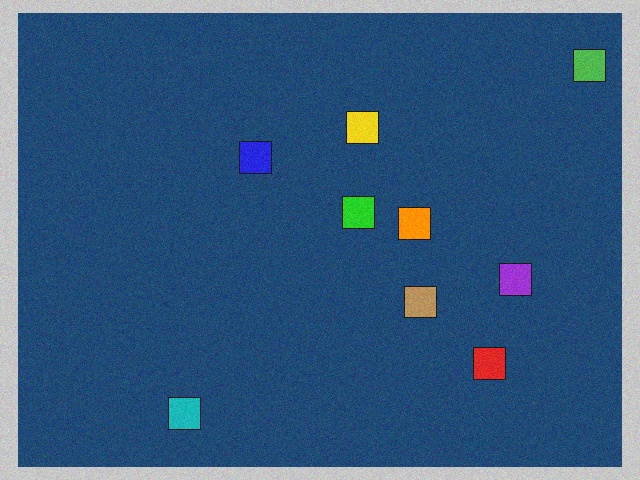block: (560, 50, 605, 90), (168, 389, 207, 429), (466, 342, 506, 380), (490, 262, 531, 295), (400, 284, 437, 318), (240, 141, 274, 177), (345, 112, 378, 149), (395, 208, 431, 239), (342, 197, 375, 229)
